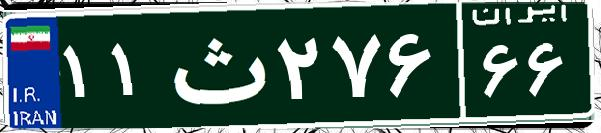1: (57, 26, 110, 107), (110, 28, 158, 105)
2: (273, 28, 330, 110)
6: (385, 28, 445, 110), (475, 38, 525, 113), (525, 38, 570, 115)
7: (330, 28, 385, 110)
ث: (158, 15, 273, 115)
